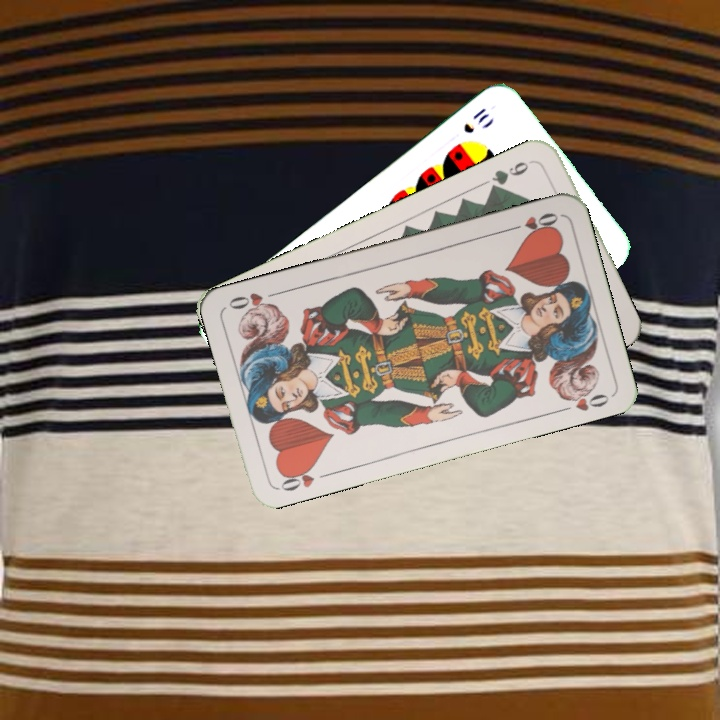G9: (486, 155, 539, 194)
HO: (275, 461, 333, 494), (504, 208, 561, 237)
S10: (459, 103, 492, 136)
